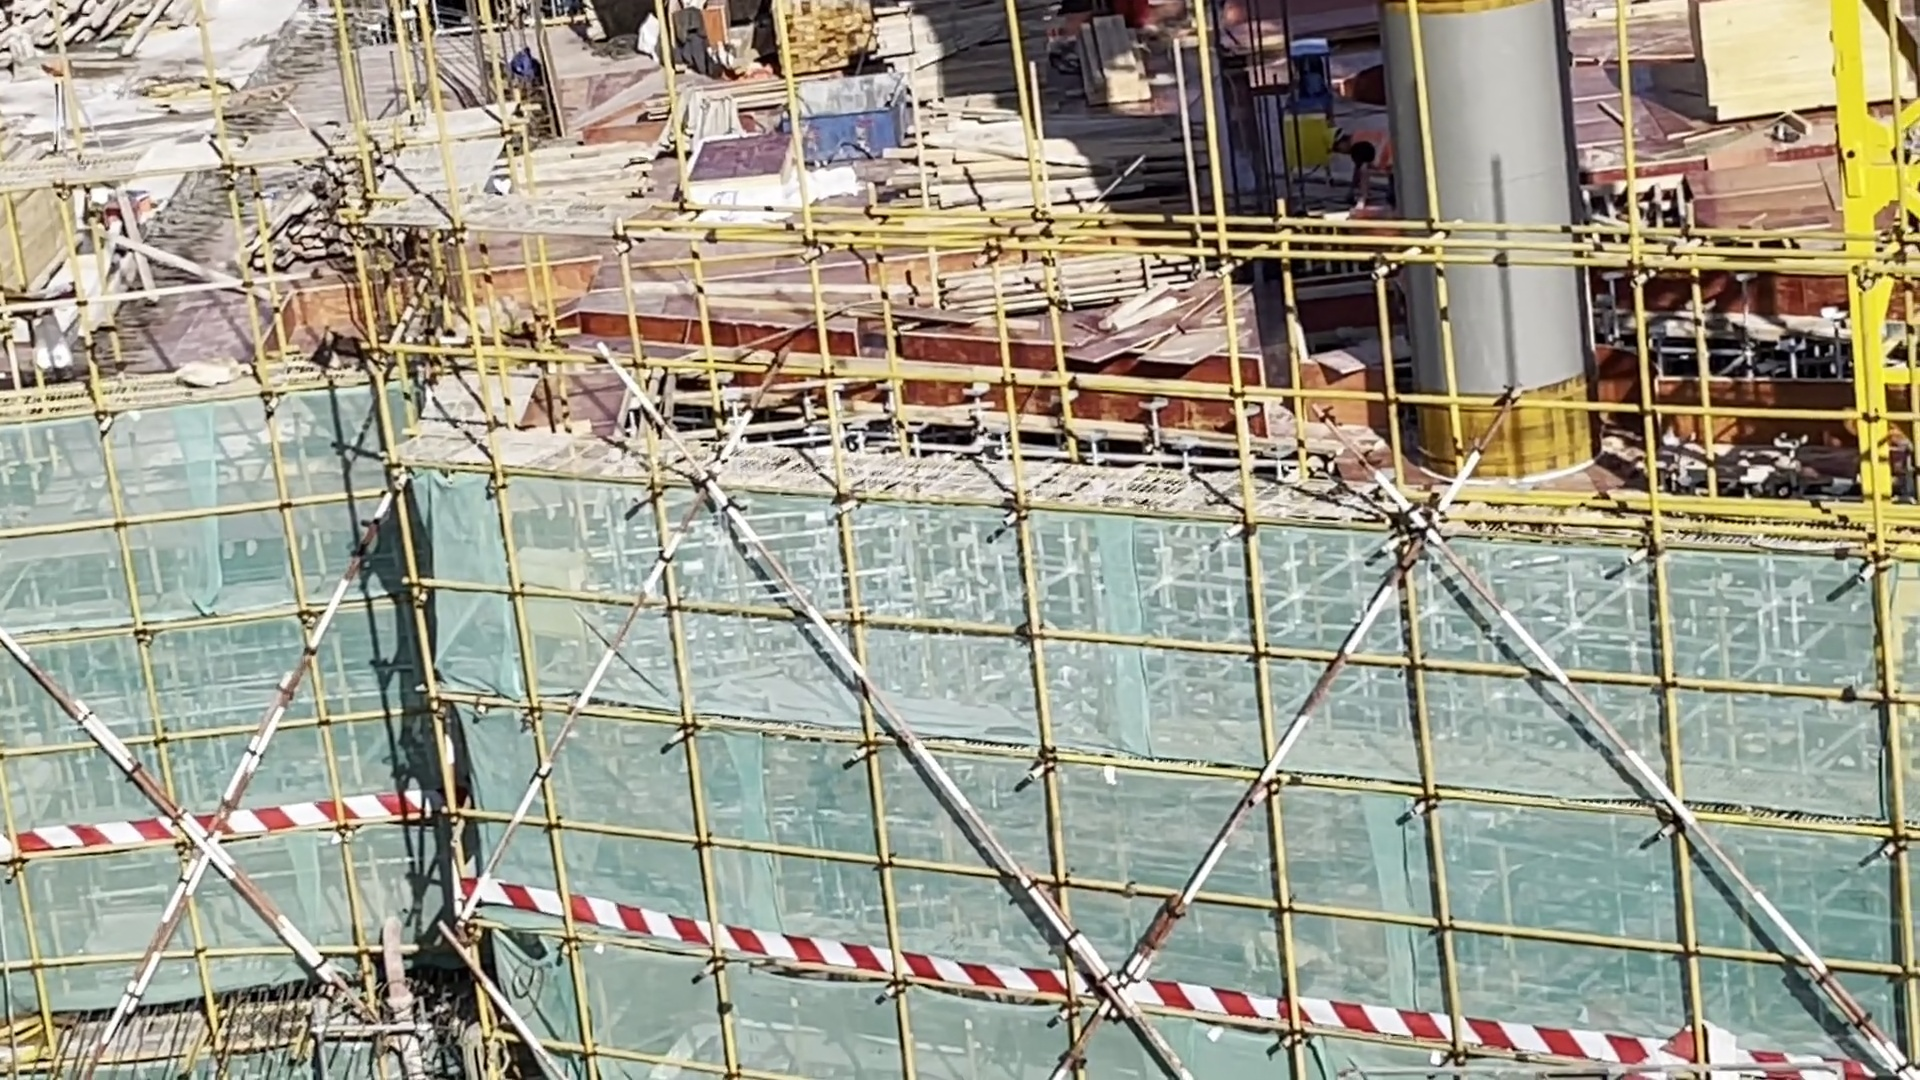helmet: (1321, 124, 1346, 152)
hopper: (1634, 344, 1884, 471), (785, 67, 927, 182)
person: (1313, 127, 1406, 210)
vest: (1352, 126, 1391, 170)
wood: (897, 98, 1200, 224)
